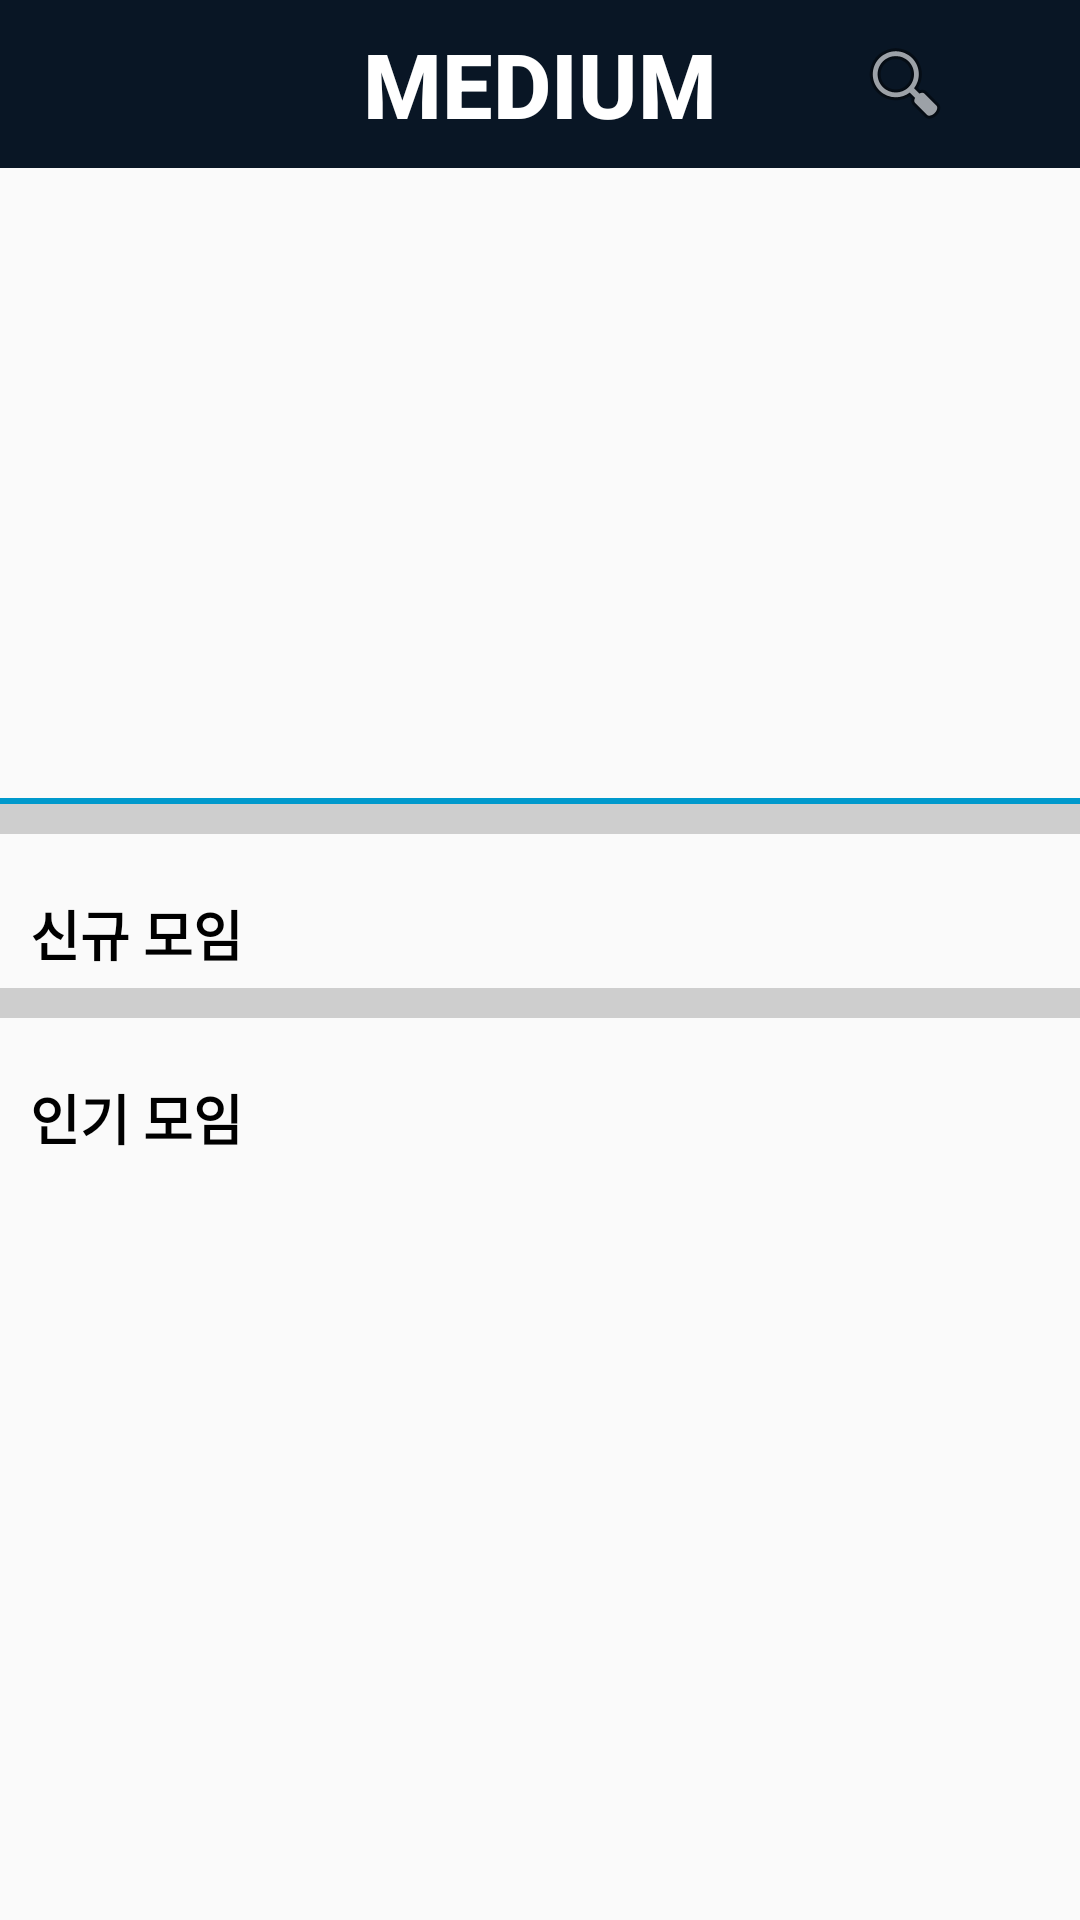

Screen size 1080 × 1920. Icon name, then its center in pixels as [x,y]:
search: [905,83]
